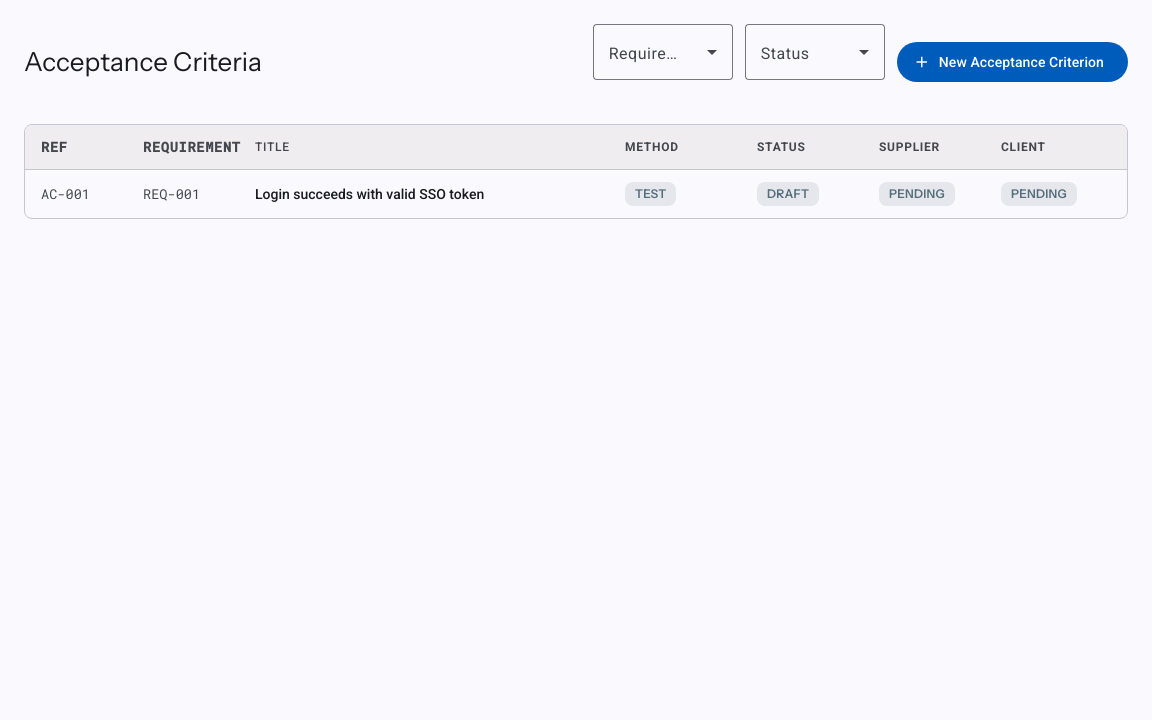
Test: AcceptanceCriterionListComponent › opens the detail panel on row click
Click the button with class "ac-row" at (65, 194), box [25,169,1127,218]
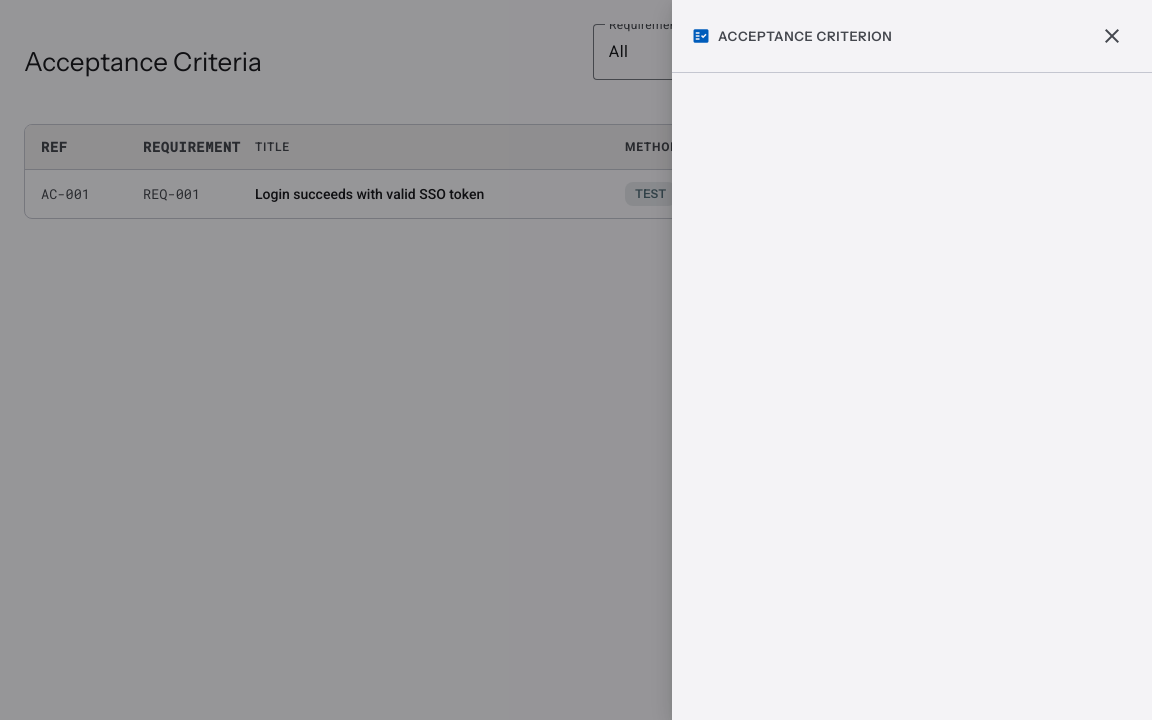
Expected: the element showing "Acceptance Criterion" is shown
